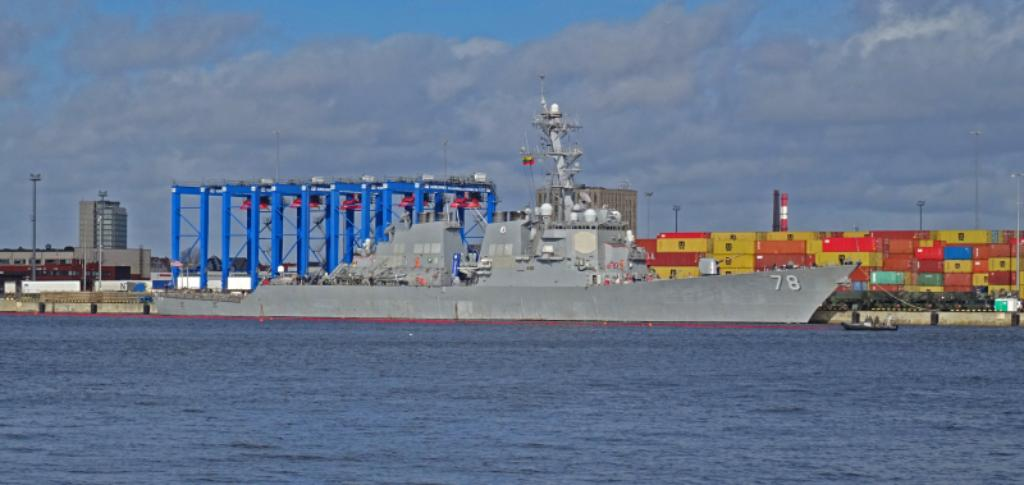Warship: (150, 70, 866, 326)
